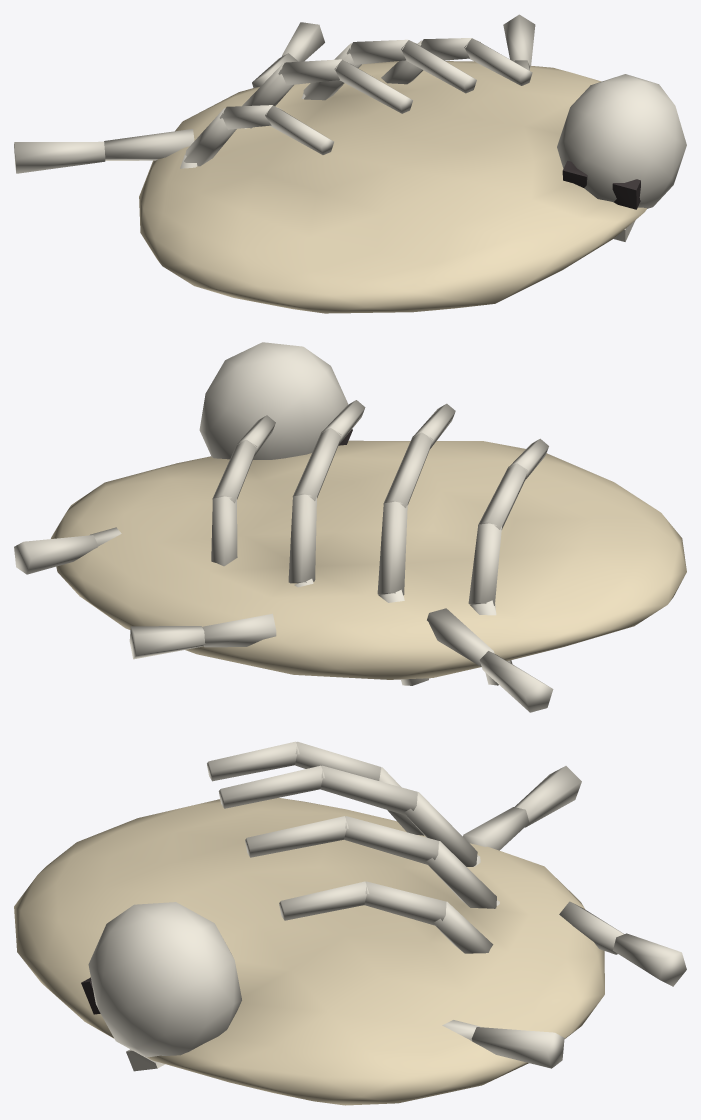
Rendered from bone_pile.136d92a3.glb.
The picture shows the model from 3 angles, top to bottom: view 1: azimuth 30°, elevation 25°; view 2: azimuth 150°, elevation 25°; view 3: azimuth 270°, elevation 25°; orthographic projection. The views are drawn at different scales.
Visible parts, largest first — view 1: bone_pile; view 2: bone_pile; view 3: bone_pile.
Part boxes in pixels (x1,y1,x2,y2): bone_pile: (14, 14, 686, 313); bone_pile: (14, 342, 686, 712); bone_pile: (14, 741, 686, 1105).
Bounding box in the file's own units: 1.19 × 0.396 × 1.12.
